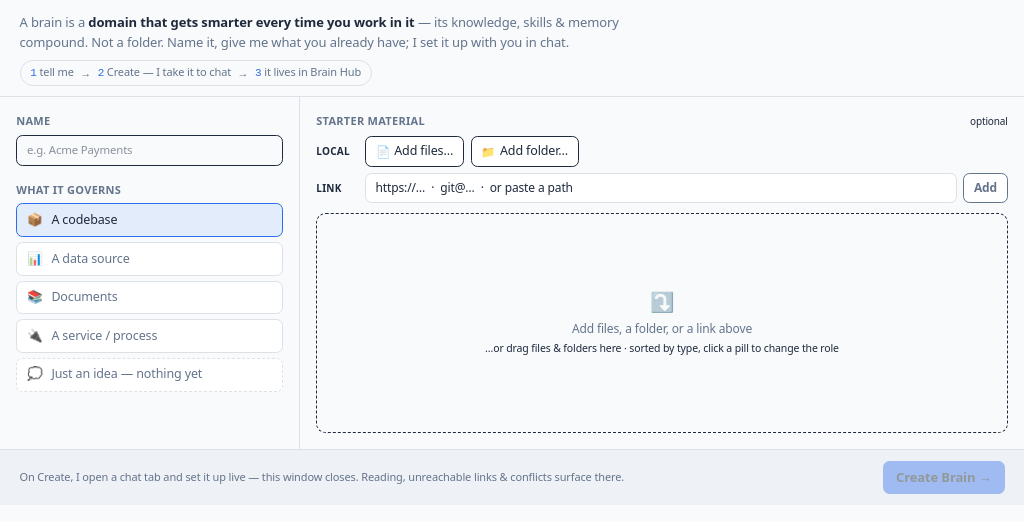
Scenario: NewBrainOverlay › AC2: "Add folder…" opens the native picker (directory) and adds the ABSOLUTE folder path as a folder item (SHELF)
Click the button with test id "new-brain-add-folder" at x=525, y=151, box [470,136,579,167]
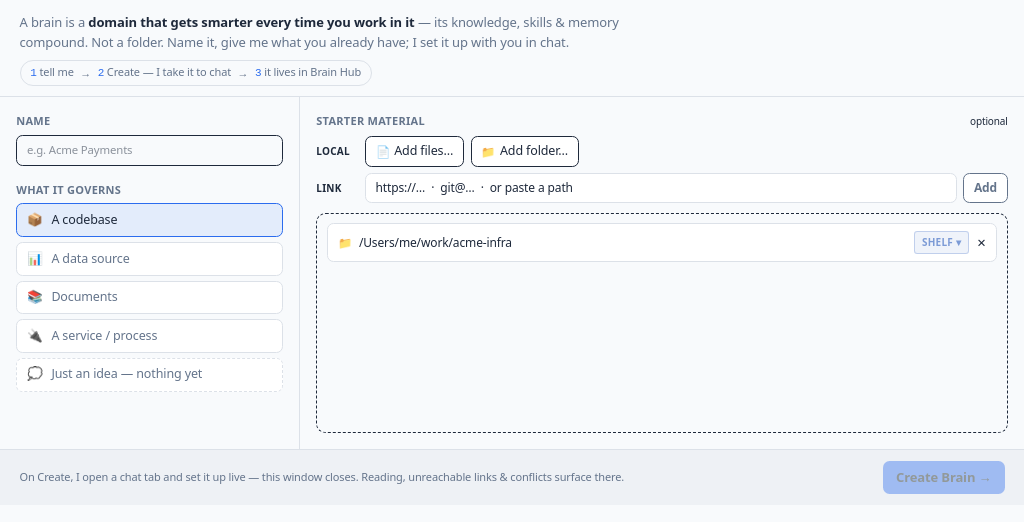
Result: the text "/Users/me/work/acme-infra" is shown at [359,234,512,251]
Result: the button "SHELF ▾" is shown at [914,231,969,254]
